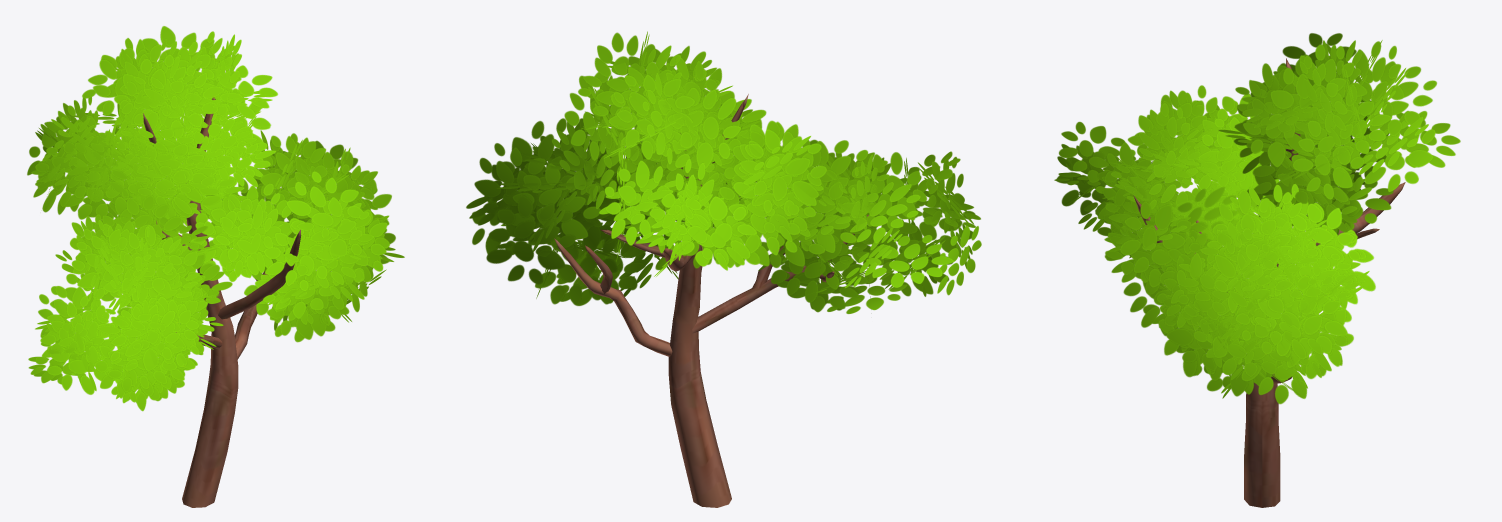
The model's file is normal_tree_5.glb.
3 renders of one model, left to right at view 1: azimuth 30°, elevation 25°; view 2: azimuth 150°, elevation 25°; view 3: azimuth 270°, elevation 25°, orthographic. The views are drawn at different scales.
Parts seen in each view (by area): view 1: NormalTree_5; view 2: NormalTree_5; view 3: NormalTree_5.
Boxes of the visible parts, x1,y1,x2,y2 form: NormalTree_5: (27,26,404,507); NormalTree_5: (466,31,981,507); NormalTree_5: (1054,33,1460,507).
Size of the model in its own units: 3.1 by 2.98 by 2.56.
Materials: 2 (2 with a texture image).
